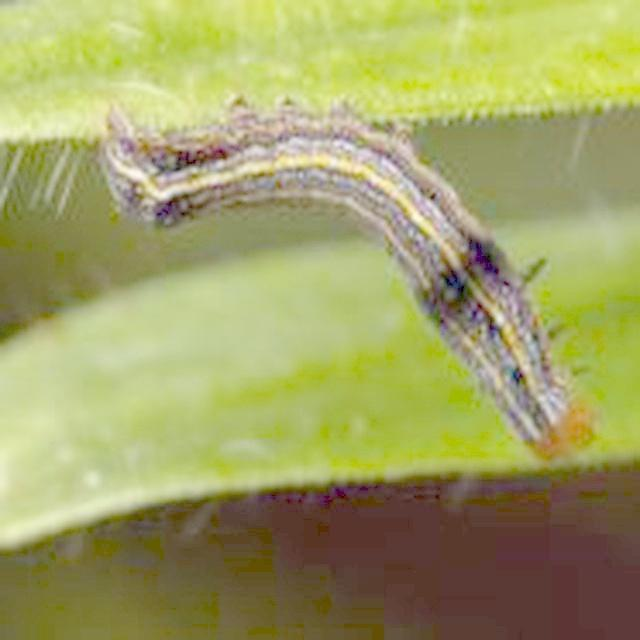gusano_cogollero: (97, 92, 606, 464)
